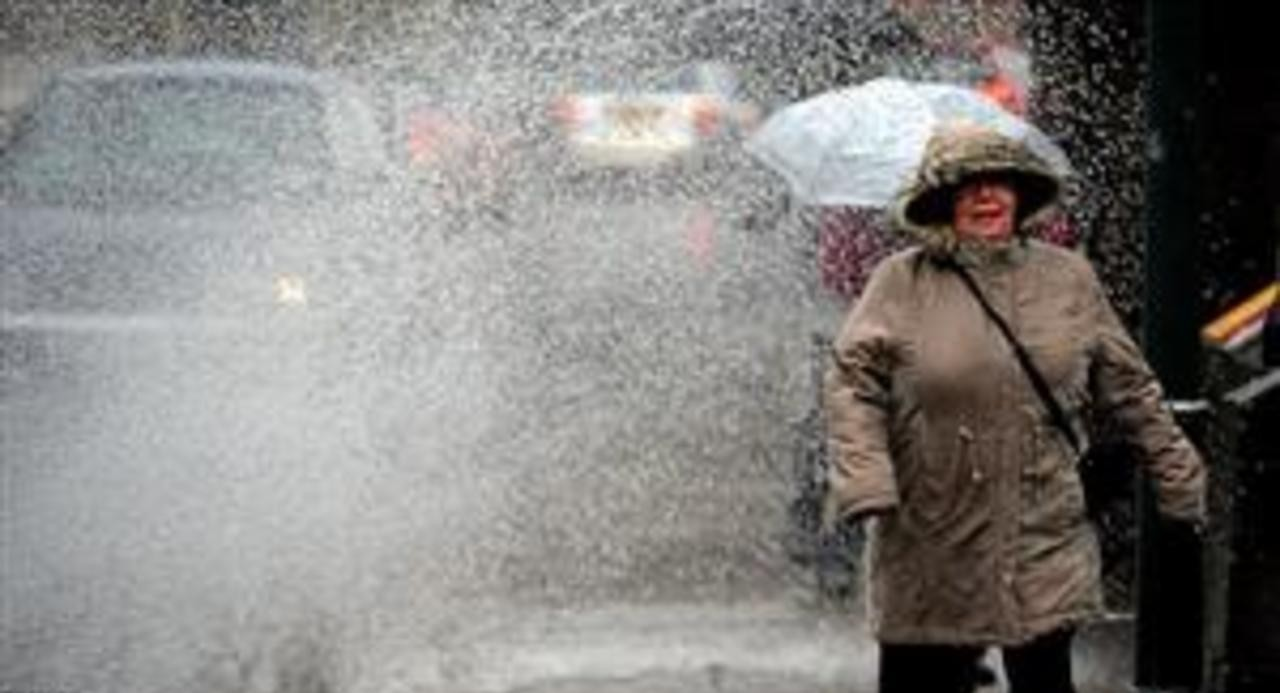car: (7, 65, 465, 416), (546, 33, 761, 203)
person: (816, 146, 1212, 692)
